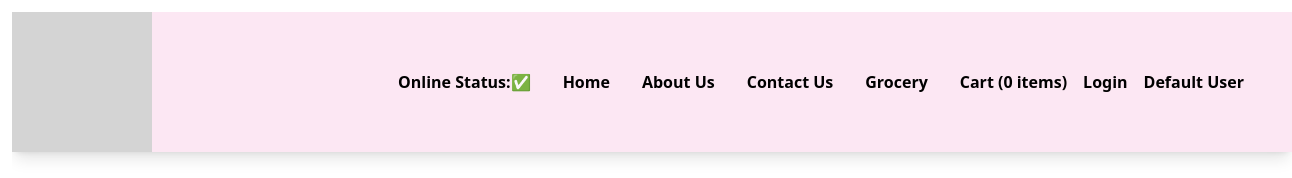
Test: sHOULD chnage login button to logout on click
This screenshot has width=1292, height=178.
What coordinates should you click on to do the following:
click the button "Login"
I would click on:
 (1105, 82)
Its box is [1083,70,1128,94].
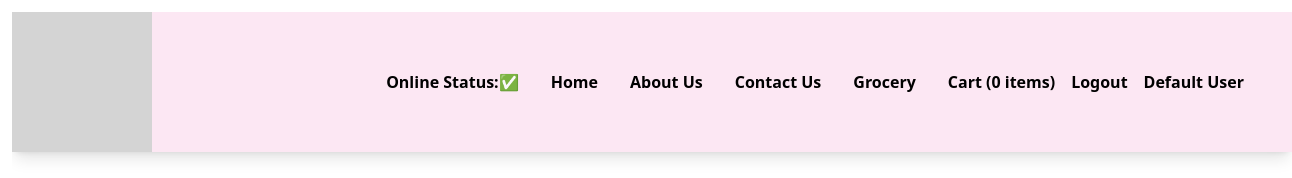
Result: the button "Logout" is shown at [1071,70,1128,94]
